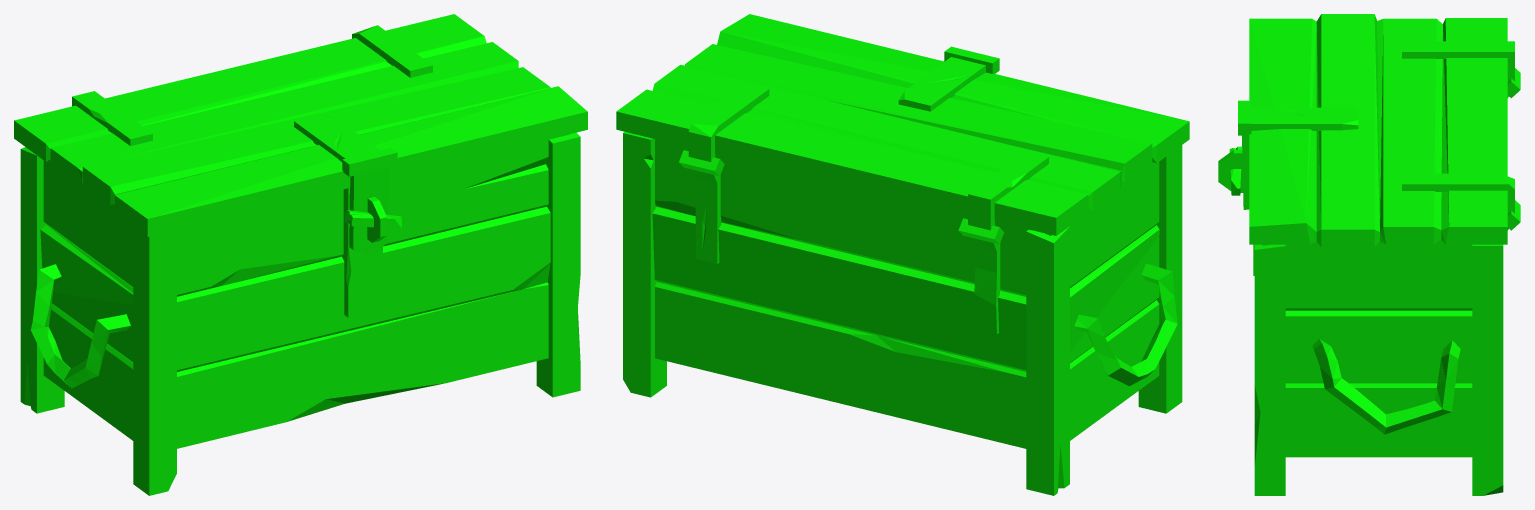
File: SM_Trunk_Wooden_Big_Fantasy.fbx
3 views of the same model, side by side, from view 1: azimuth 30°, elevation 25°; view 2: azimuth 150°, elevation 25°; view 3: azimuth 270°, elevation 25° (orthographic). The views are drawn at different scales.
Parts seen in each view (by area): view 1: trunk-wooden-big-base-fantasy, trunk-wooden-big-lid-fantasy; view 2: trunk-wooden-big-base-fantasy, trunk-wooden-big-lid-fantasy; view 3: trunk-wooden-big-lid-fantasy, trunk-wooden-big-base-fantasy.
Part boxes in pixels (x1,y1,x2,y2): trunk-wooden-big-base-fantasy: [20, 132, 580, 495]; trunk-wooden-big-lid-fantasy: [14, 14, 587, 256]; trunk-wooden-big-base-fantasy: [623, 132, 1182, 495]; trunk-wooden-big-lid-fantasy: [616, 14, 1189, 244]; trunk-wooden-big-lid-fantasy: [1238, 14, 1520, 247]; trunk-wooden-big-base-fantasy: [1218, 95, 1508, 495].
Size of the model in its own units: 1.41 by 0.7993 by 0.7771.
